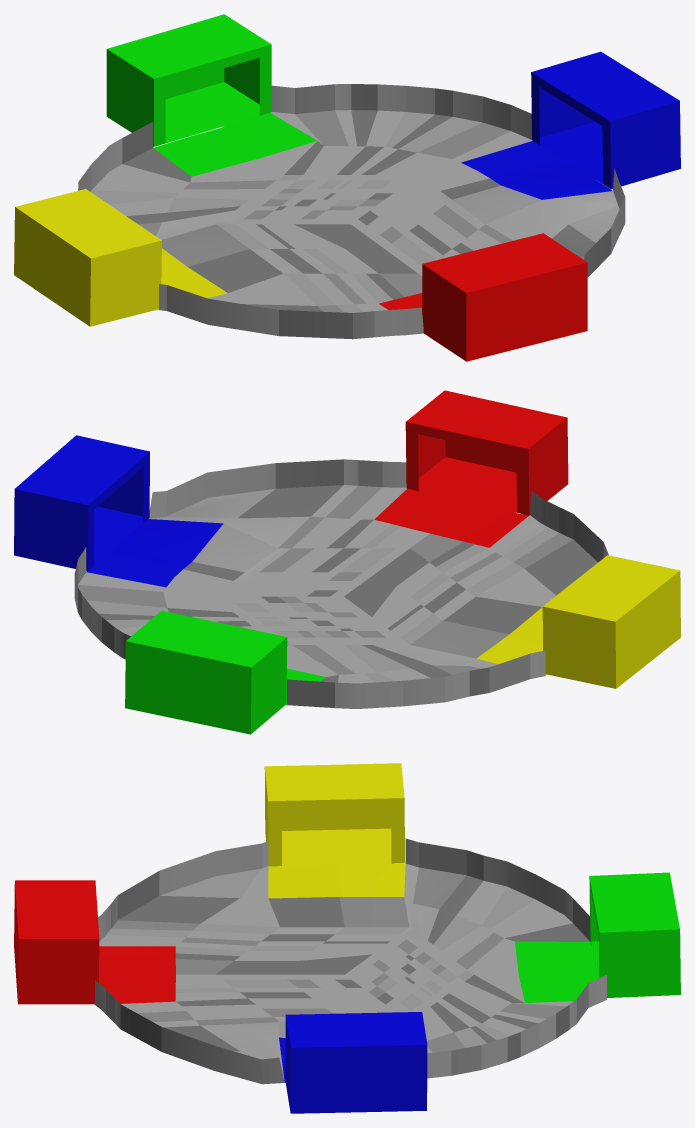
The model's file is PlayZone+Goals (1).fbx.
3 views of the same model, one above another, from view 1: azimuth 30°, elevation 25°; view 2: azimuth 150°, elevation 25°; view 3: azimuth 270°, elevation 25° (orthographic). The views are drawn at different scales.
Visible parts, largest first — view 1: group2; view 2: group2; view 3: group2.
Part boxes in pixels (x1,y1,x2,y2): group2: (14, 14, 680, 361); group2: (14, 390, 680, 734); group2: (14, 763, 680, 1113).
Bounding box in the file's own units: 122 × 14.52 × 120.
